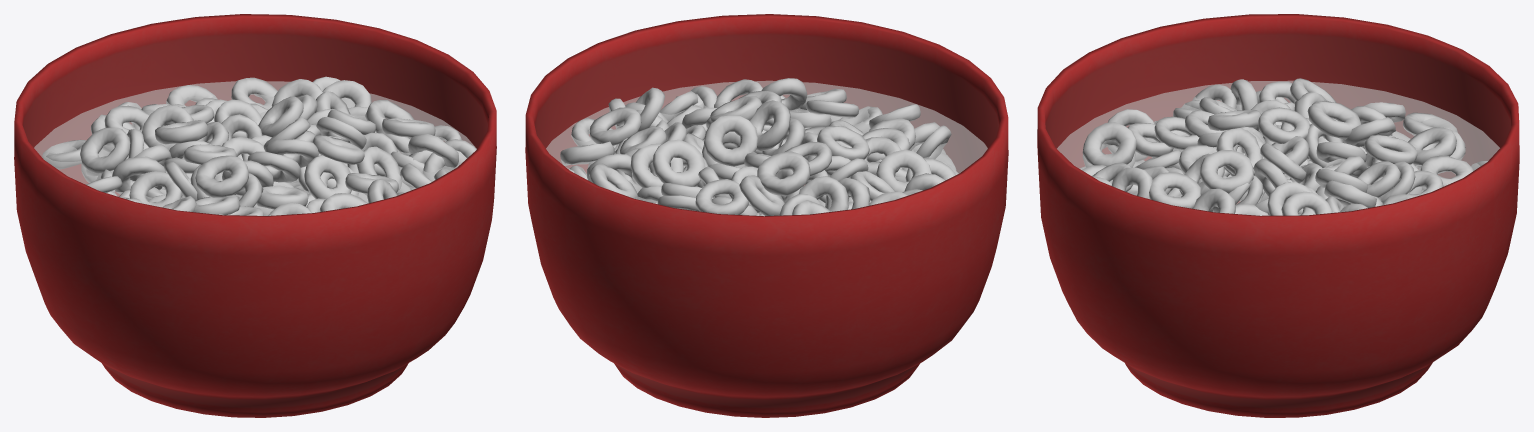
Rendered from Cerealbowl.fbx.
The picture shows the model from 3 angles, left to right: view 1: azimuth 30°, elevation 25°; view 2: azimuth 150°, elevation 25°; view 3: azimuth 270°, elevation 25°; orthographic projection.
Visible parts, largest first — view 1: Bowl, cereals, Bowl_milk; view 2: Bowl, cereals, Bowl_milk; view 3: Bowl, cereals, Bowl_milk.
Boxes of the visible parts, <box> form: Bowl: <box>14,14,496,417</box>; cereals: <box>42,76,476,215</box>; Bowl_milk: <box>34,81,476,215</box>; Bowl: <box>525,14,1008,417</box>; cereals: <box>560,78,958,216</box>; Bowl_milk: <box>546,80,987,215</box>; Bowl: <box>1037,14,1519,417</box>; cereals: <box>1080,78,1487,215</box>; Bowl_milk: <box>1057,80,1499,215</box>.
Bounding box in the file's own units: 17.73 × 9.73 × 17.73.
